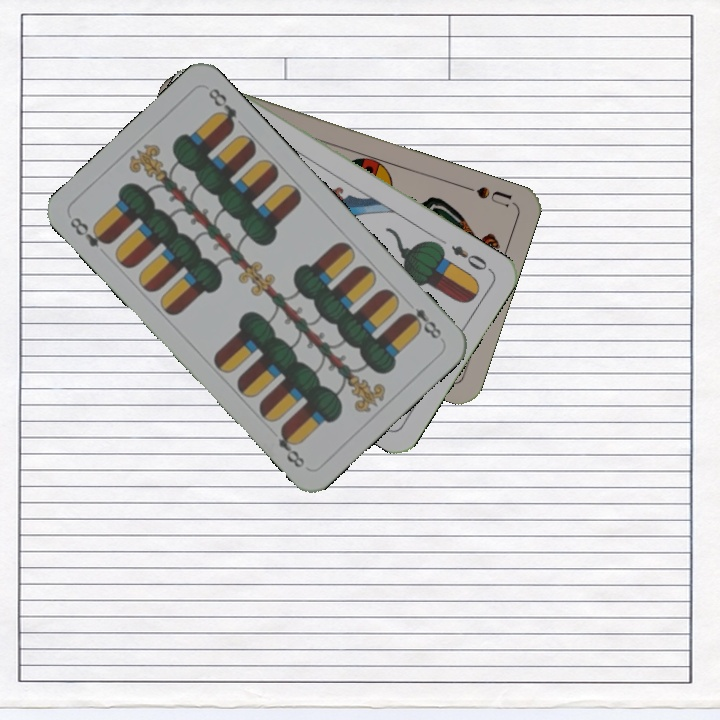E8: (65, 213, 114, 250), (400, 303, 444, 342)
EO: (447, 241, 494, 274)
SU: (459, 181, 516, 210)
